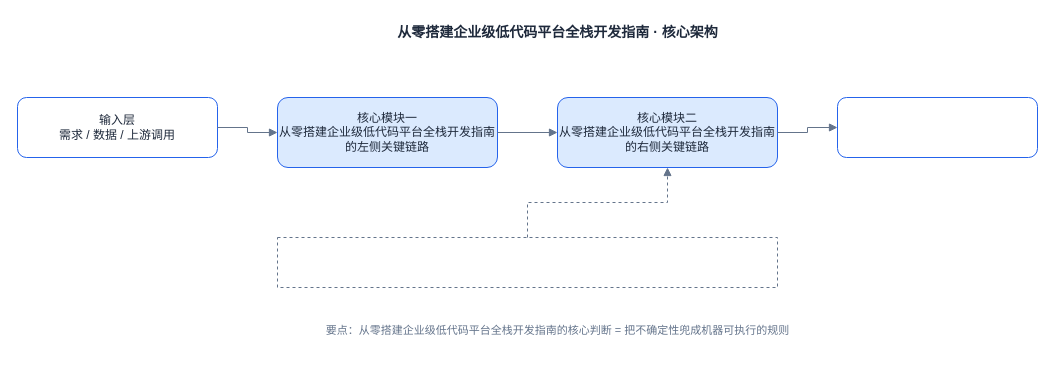
Image size: 1055x369. Some labels were removed from this diagram. Each missing label, with the centre of its shape:
"兜底层 质量 / 安全 / 监控 / 评审" belongs at (527,262).
"输出 / 结果 产物 / 上线 / 反馈" belongs at (937,127).
